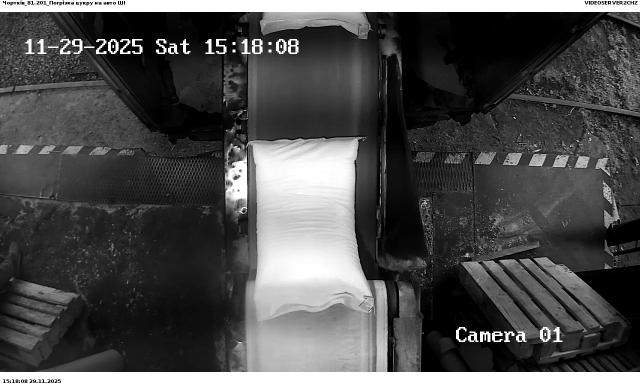bag: (250, 136, 373, 320), (260, 12, 372, 38)
